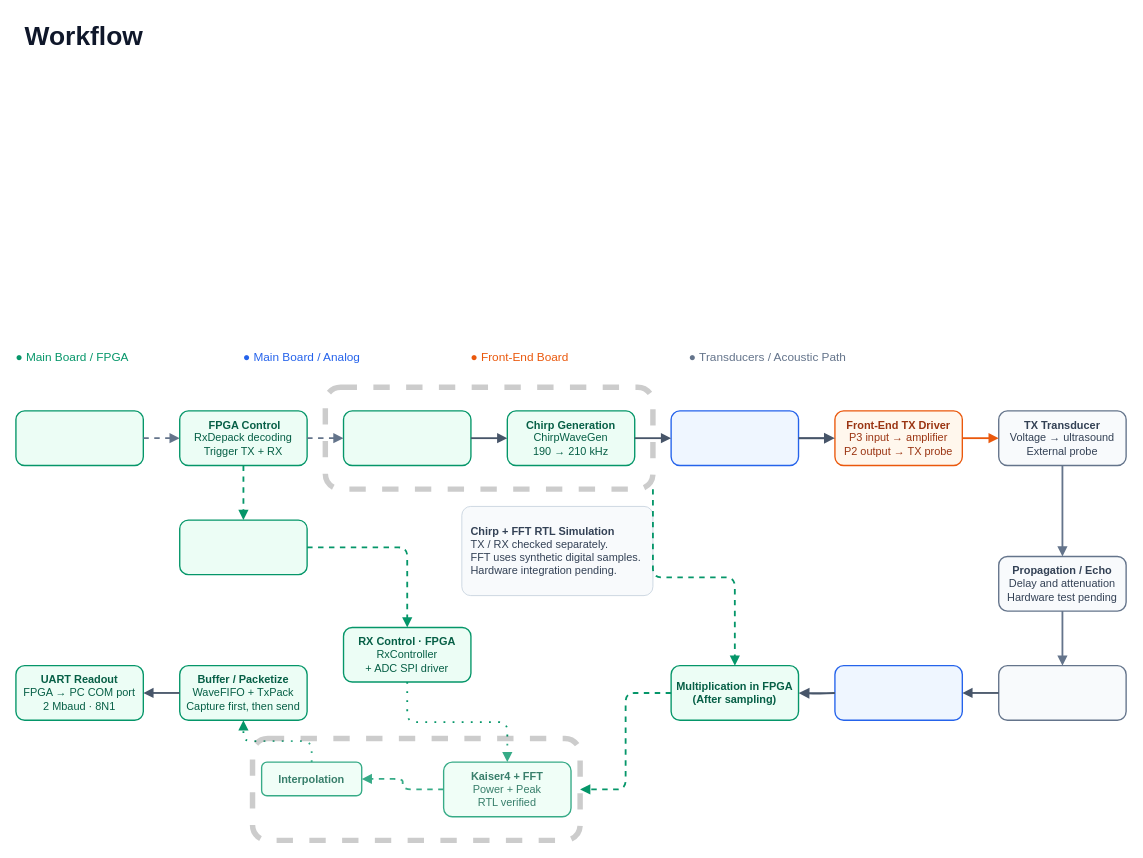
This 1143x858 diagram has some shape labels left out. Here are the shapes that lost their labels. From the top down, the centre of each, then its label:
[79,438]: Simulated UART TB config + trigger 2 Mbaud · 8N1
[406,438]: TX Control TxController 80 ms TX window
[734,438]: Main-Board DAC 14 bit · 165 MHz DAC904
[243,547]: RX Capture Window 84 ms RX window Start delay: 1 ms
[898,693]: Main-Board ADC ADS127L21 · 16 bit ~1.146 MS/s CLK 27.5 MHz
[1062,693]: RX Transducer Echo → weak voltage External probe
